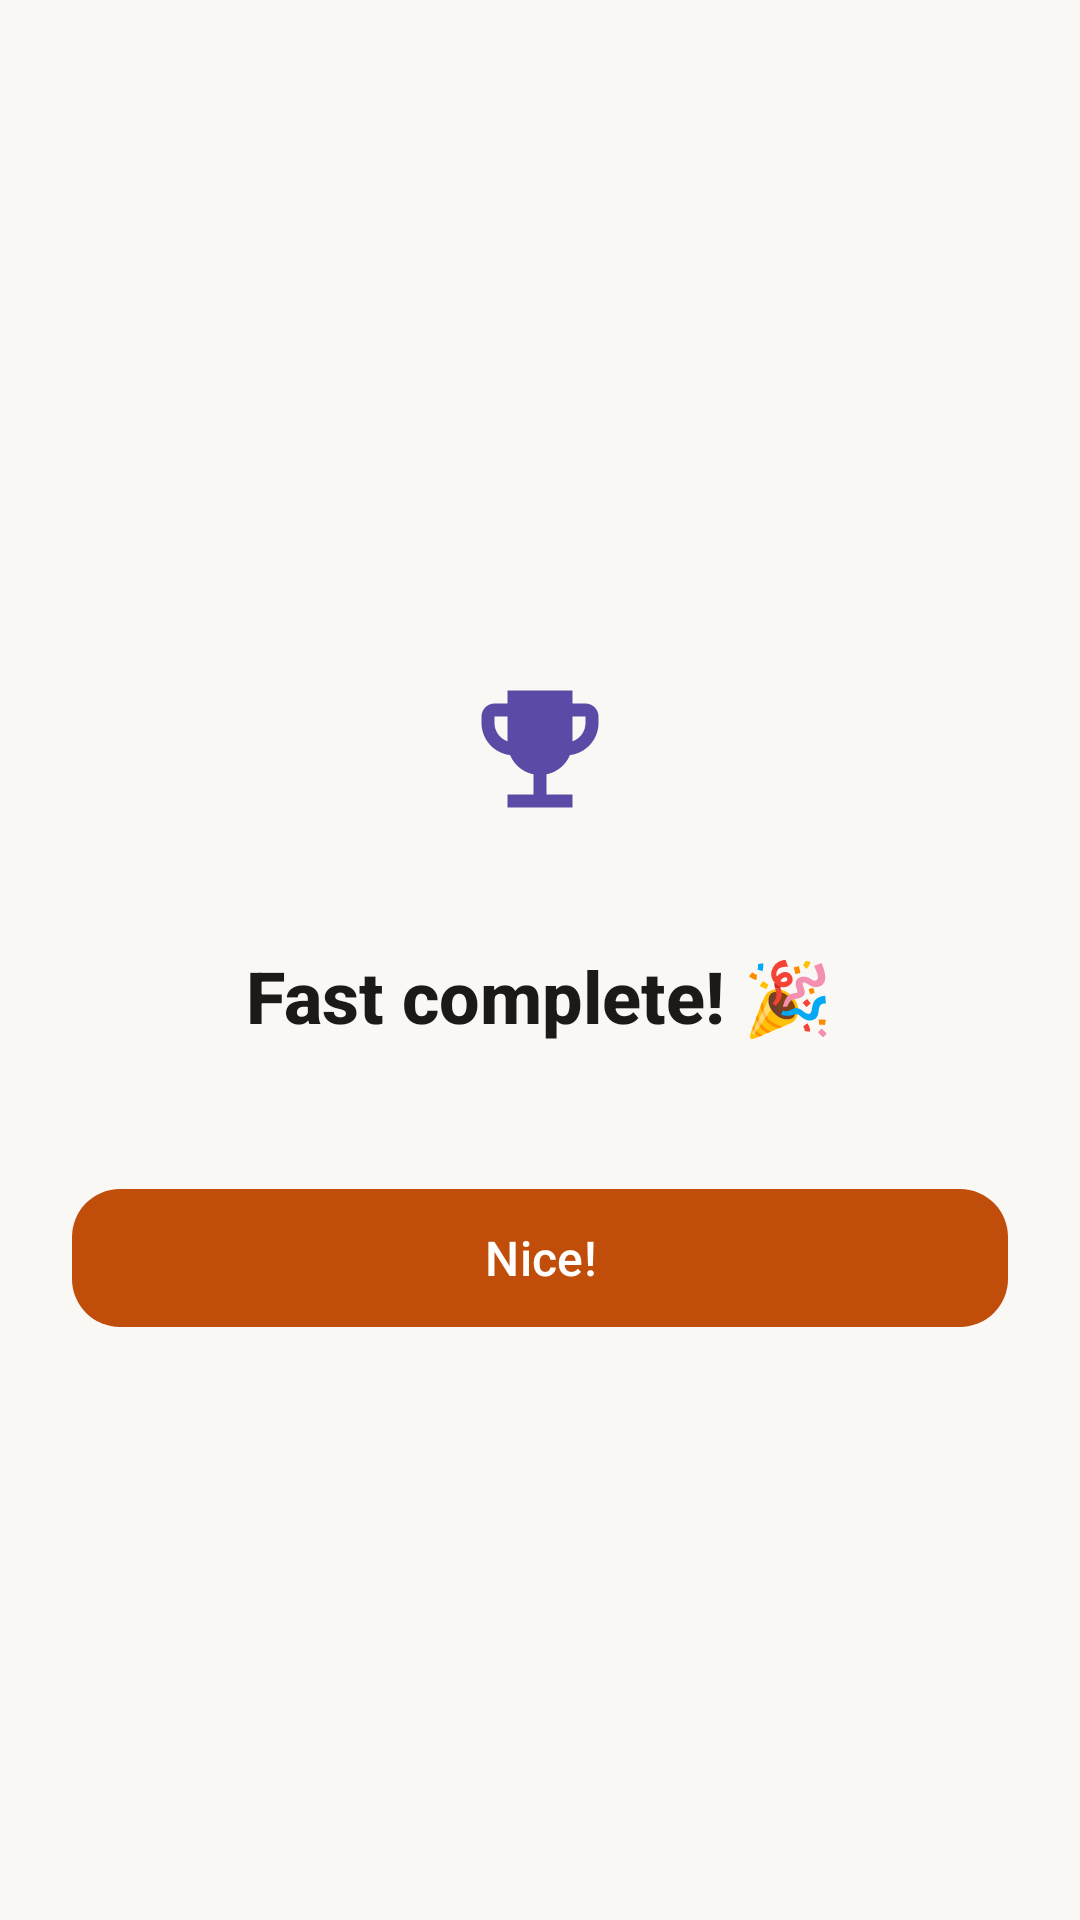

Icons on this 1080 x 1920 Android screen, each with its box as [x1,y1,x2,y2]:
trophy: [481,690,599,808]
